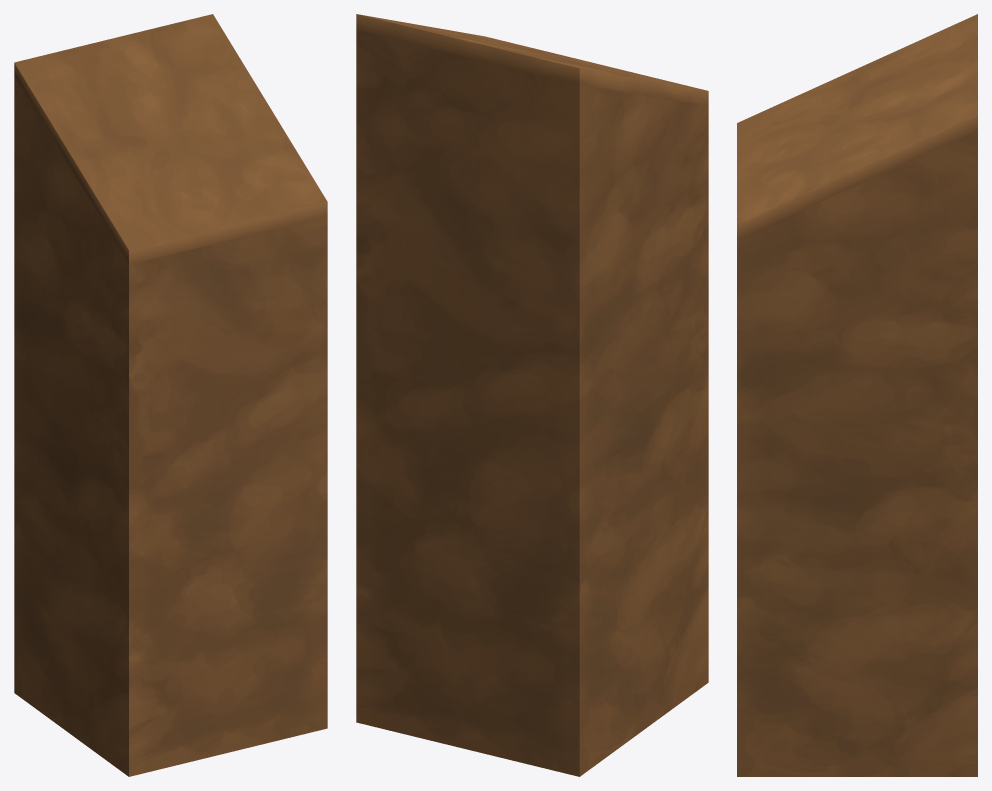
File: Tile_Ramp1A.fbx
The picture shows the model from 3 angles, left to right: view 1: azimuth 30°, elevation 25°; view 2: azimuth 150°, elevation 25°; view 3: azimuth 270°, elevation 25°; orthographic projection. The views are drawn at different scales.
Parts seen in each view (by area): view 1: polySurface1879; view 2: polySurface1879; view 3: polySurface1879.
Boxes of the visible parts, x1,y1,x2,y2 form: polySurface1879: (14,14,327,776); polySurface1879: (356,14,708,776); polySurface1879: (737,14,977,776).
Bounding box in the file's own units: 200 × 606 × 200.
Materials: 1 (1 with a texture image).
